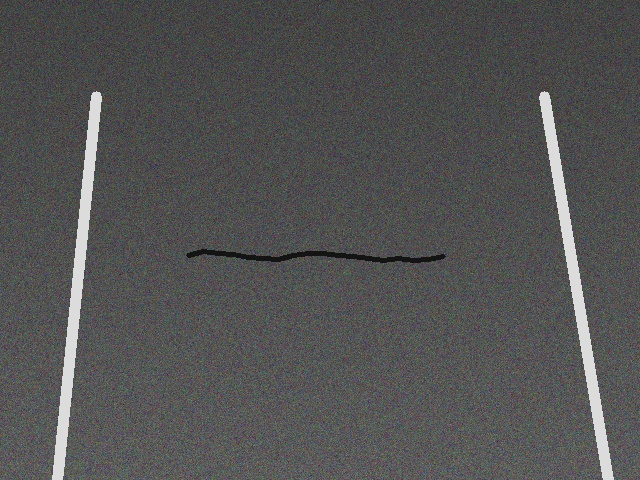D10: (188, 236, 458, 275)
